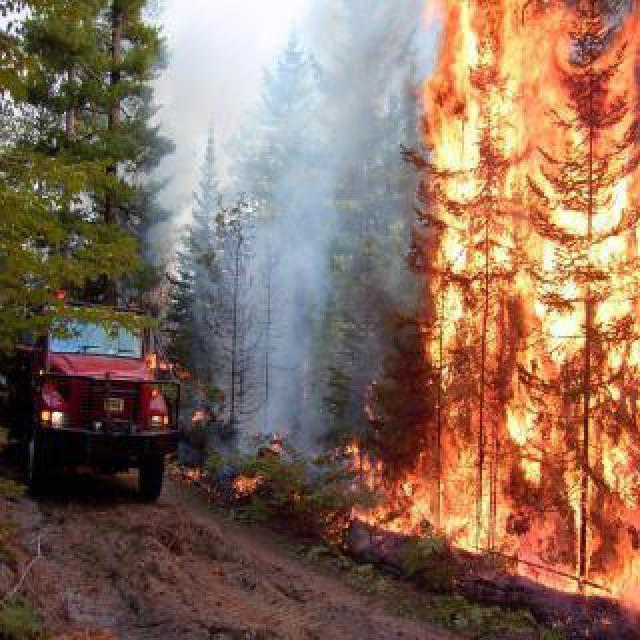Fire: (342, 444, 414, 538), (228, 466, 282, 504), (170, 450, 210, 488)
Smoke: (234, 42, 344, 450)
